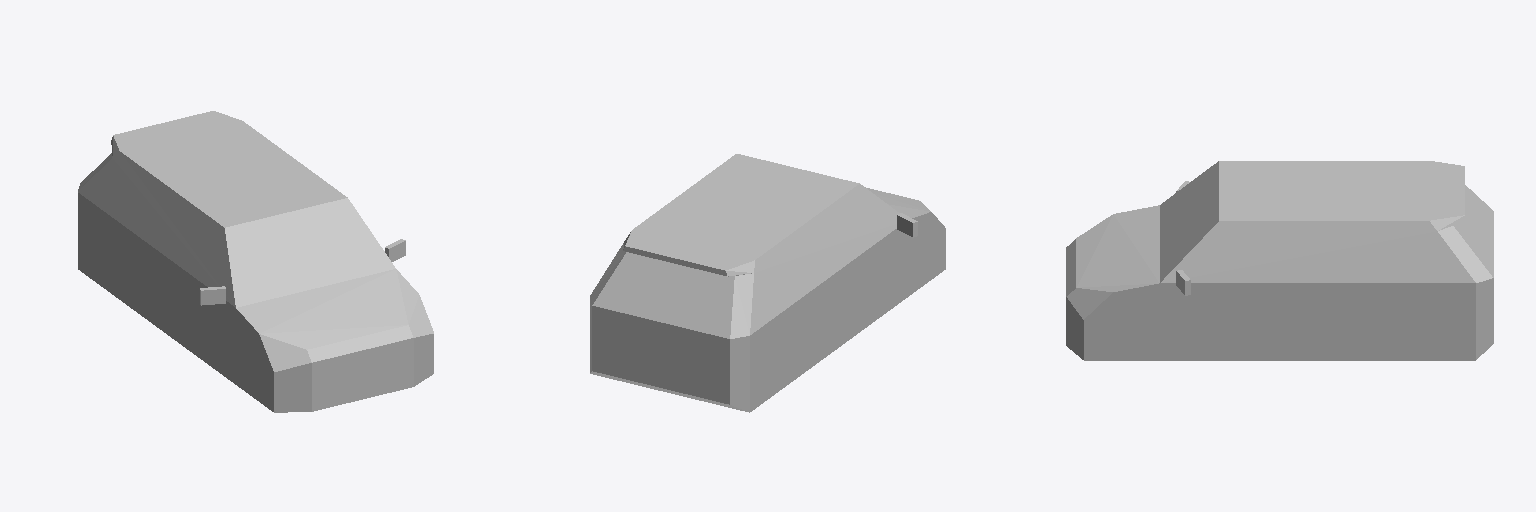
Rendered from suv_collider.obj.
The picture shows the model from 3 angles: view 1: azimuth 30°, elevation 25°; view 2: azimuth 150°, elevation 25°; view 3: azimuth 270°, elevation 25°; orthographic projection.
Visible parts, largest first — view 1: SUV_01_collider; view 2: SUV_01_collider; view 3: SUV_01_collider.
Boxes of the visible parts, box(x1,y1,x2,y2) form: SUV_01_collider: box(78, 111, 433, 412); SUV_01_collider: box(590, 154, 945, 412); SUV_01_collider: box(1066, 161, 1493, 360).
Bounding box in the file's own units: 1.06 × 0.6478 × 1.92.